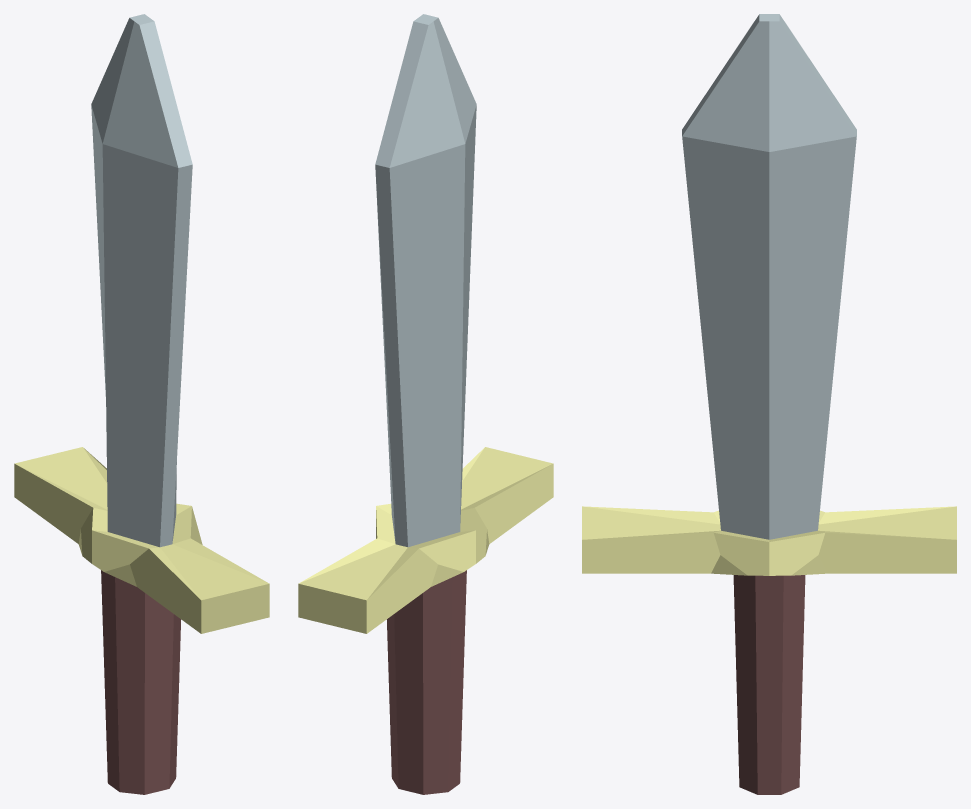
The model's file is Sword.fbx.
The picture shows the model from 3 angles, left to right: view 1: azimuth 30°, elevation 25°; view 2: azimuth 150°, elevation 25°; view 3: azimuth 270°, elevation 25°; orthographic projection.
Parts seen in each view (by area): view 1: Cube; view 2: Cube; view 3: Cube.
Boxes of the visible parts, x1=… form: Cube: x1=14, y1=14, x2=269, y2=794; Cube: x1=298, y1=14, x2=553, y2=794; Cube: x1=582, y1=14, x2=956, y2=794.
Bounding box in the file's own units: 0.3541 × 0.1094 × 0.796.
